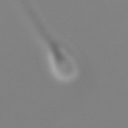normal: (16, 1, 58, 48)
